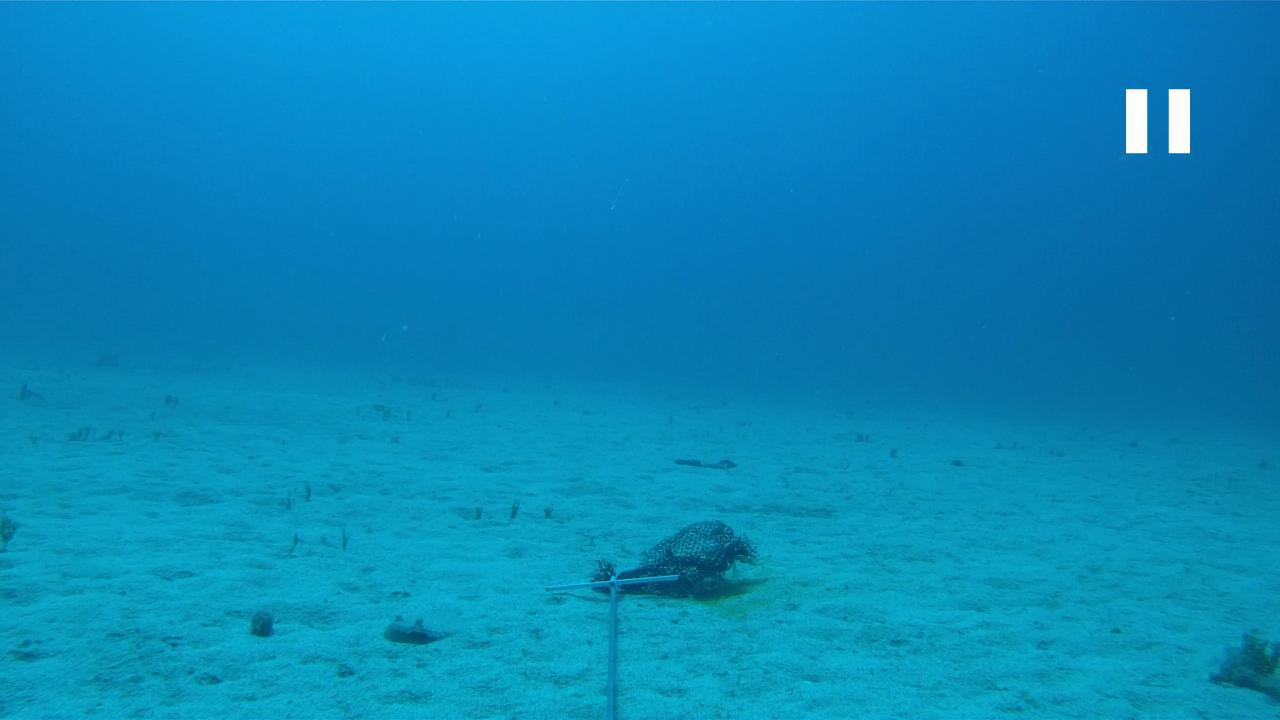bothus: (383, 602, 460, 646)
